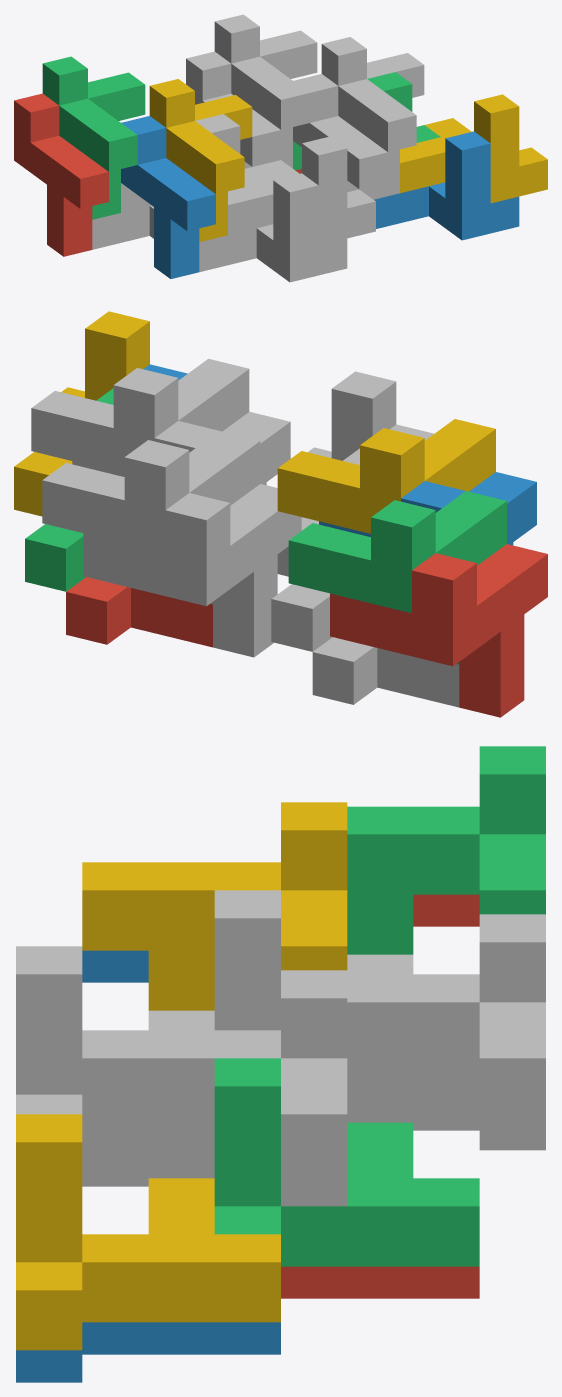
The model's file is tiling.obj.
The picture shows the model from 3 angles, top to bottom: view 1: azimuth 30°, elevation 25°; view 2: azimuth 150°, elevation 25°; view 3: azimuth 270°, elevation 25°; orthographic projection. The views are drawn at different scales.
Parts seen in each view (by area): view 1: copy_1_domain_1, copy_1_domain_3, copy_1_domain_7, copy_1_domain_2, copy_2_domain_2, copy_1_domain_4, copy_1_domain_8, copy_2_domain_6, copy_2_domain_4, copy_2_domain_8, copy_1_domain_6, copy_1_domain_5 (+3 smaller); view 2: copy_1_domain_1, copy_1_domain_5, copy_1_domain_7, copy_1_domain_3, copy_1_domain_8, copy_1_domain_4, copy_2_domain_1, copy_2_domain_5, copy_2_domain_8, copy_2_domain_4, copy_1_domain_2, copy_1_domain_6 (+2 smaller); view 3: copy_2_domain_8, copy_1_domain_8, copy_2_domain_7, copy_1_domain_7, copy_1_domain_4, copy_1_domain_3, copy_2_domain_4, copy_2_domain_3, copy_2_domain_6, copy_2_domain_5, copy_1_domain_5, copy_1_domain_6 (+4 smaller).
Boxes of the visible parts, bbox=[...] form: copy_1_domain_1: bbox=[14, 93, 108, 256]; copy_1_domain_3: bbox=[42, 56, 145, 219]; copy_1_domain_7: bbox=[214, 14, 317, 168]; copy_1_domain_2: bbox=[121, 116, 215, 278]; copy_2_domain_2: bbox=[199, 173, 347, 282]; copy_1_domain_4: bbox=[149, 79, 252, 241]; copy_1_domain_8: bbox=[321, 37, 424, 199]; copy_2_domain_6: bbox=[374, 131, 519, 240]; copy_2_domain_4: bbox=[228, 136, 375, 245]; copy_2_domain_8: bbox=[400, 94, 547, 203]; copy_1_domain_6: bbox=[293, 74, 387, 197]; copy_1_domain_5: bbox=[186, 51, 280, 168]; copy_1_domain_1: bbox=[330, 544, 547, 717]; copy_1_domain_5: bbox=[83, 484, 301, 657]; copy_1_domain_7: bbox=[42, 431, 260, 604]; copy_1_domain_3: bbox=[288, 491, 506, 664]; copy_1_domain_8: bbox=[31, 359, 249, 473]; copy_1_domain_4: bbox=[277, 419, 495, 533]; copy_2_domain_1: bbox=[312, 637, 459, 707]; copy_2_domain_5: bbox=[66, 577, 212, 647]; copy_2_domain_8: bbox=[14, 311, 149, 516]; copy_2_domain_4: bbox=[277, 371, 396, 576]; copy_1_domain_2: bbox=[319, 472, 536, 545]; copy_1_domain_6: bbox=[72, 411, 290, 485]; copy_2_domain_8: bbox=[16, 1114, 280, 1350]; copy_1_domain_8: bbox=[82, 970, 347, 1178]; copy_2_domain_7: bbox=[214, 1058, 479, 1266]; copy_1_domain_7: bbox=[347, 914, 545, 1122]; copy_1_domain_4: bbox=[82, 802, 347, 1010]; copy_1_domain_3: bbox=[347, 746, 545, 954]; copy_2_domain_4: bbox=[16, 946, 214, 1154]; copy_2_domain_3: bbox=[214, 890, 479, 1098]; copy_2_domain_6: bbox=[16, 1322, 280, 1382]; copy_2_domain_5: bbox=[281, 1266, 479, 1298]; copy_1_domain_5: bbox=[413, 1062, 545, 1150]; copy_1_domain_6: bbox=[82, 1118, 347, 1206].
Size of the model in its own units: 14 by 5 by 8.
